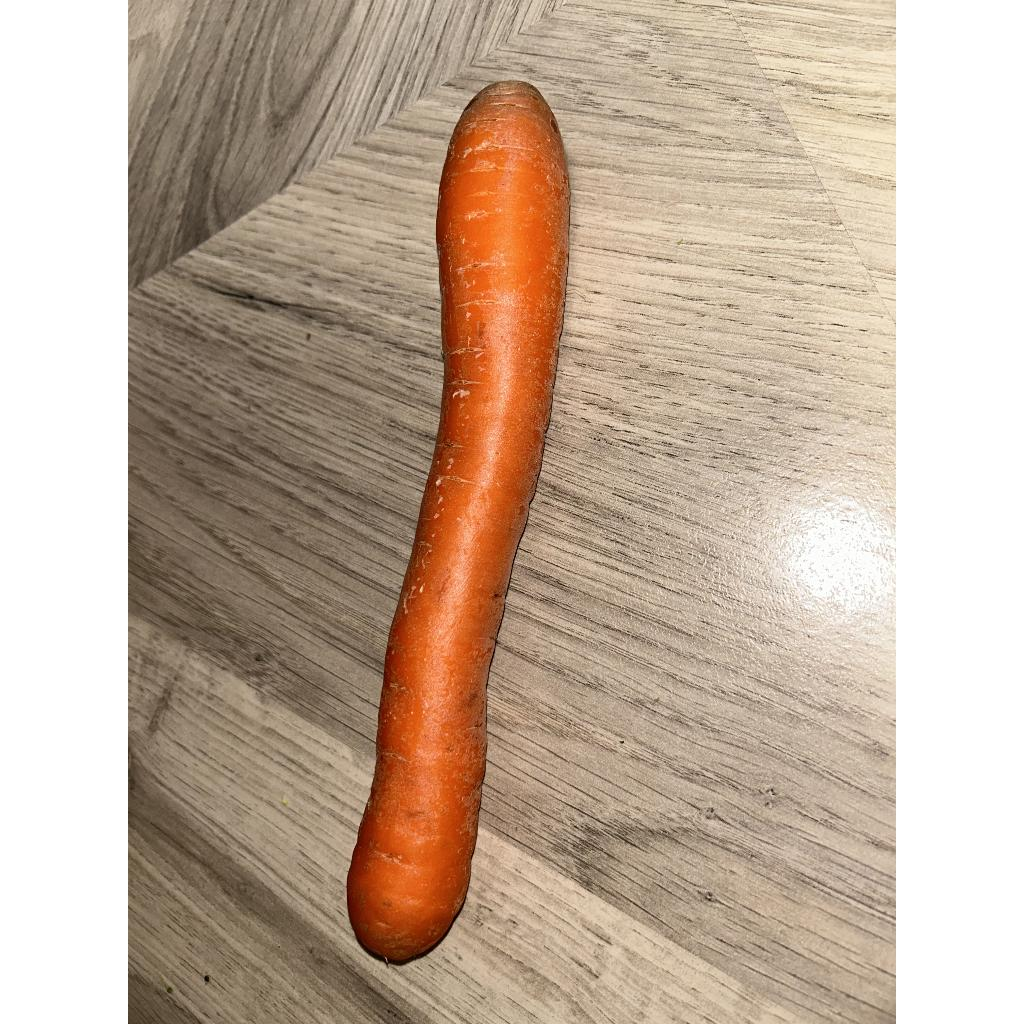carrot: (348, 82, 570, 962)
